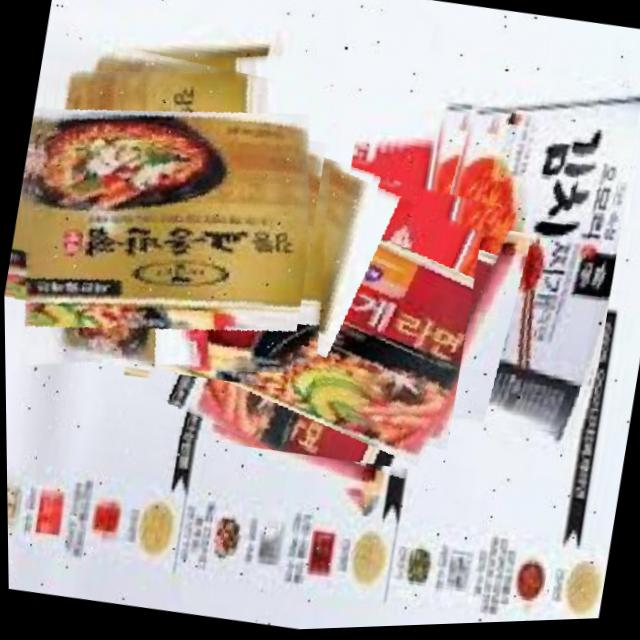Miscellaneous: (1, 22, 340, 398), (140, 126, 493, 485), (386, 59, 640, 450)
